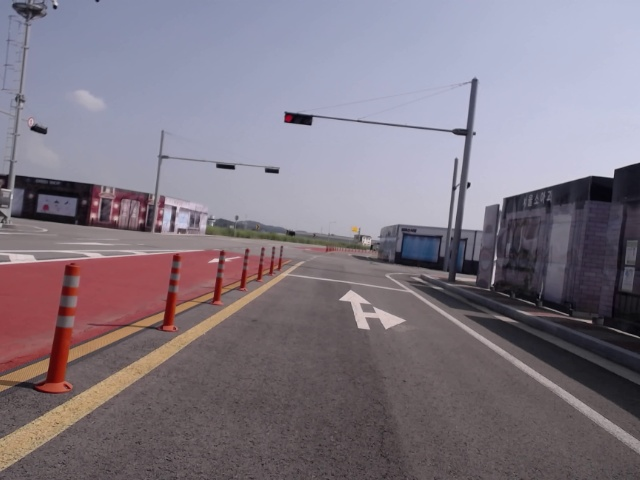red_3: (284, 112, 313, 126)
